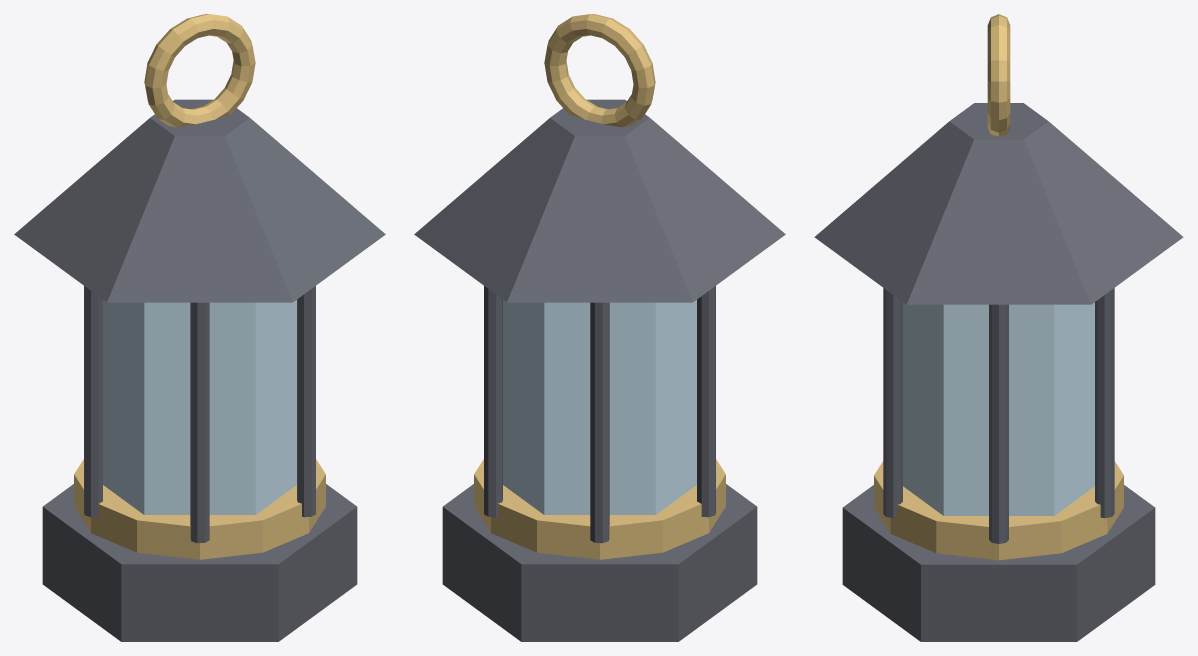
The model's file is iron-lantern_original_web-mobile.glb.
3 views of the same model, side by side, from view 1: azimuth 30°, elevation 25°; view 2: azimuth 150°, elevation 25°; view 3: azimuth 270°, elevation 25° (orthographic).
Visible parts, largest first — view 1: SM_Lantern_RoofCap, SM_Lantern_Glass, SM_Lantern_Base, SM_Lantern_Collar, SM_Lantern_HangRing, SM_Lantern_Strut_5, SM_Lantern_Strut_4, SM_Lantern_Strut_6; view 2: SM_Lantern_RoofCap, SM_Lantern_Glass, SM_Lantern_Base, SM_Lantern_Collar, SM_Lantern_HangRing, SM_Lantern_Strut_3, SM_Lantern_Strut_4, SM_Lantern_Strut_2; view 3: SM_Lantern_RoofCap, SM_Lantern_Glass, SM_Lantern_Base, SM_Lantern_Collar, SM_Lantern_Strut_1, SM_Lantern_Strut_2, SM_Lantern_Strut_6, SM_Lantern_HangRing.
Part boxes in pixels (box(x1,y1,x2,y2)): SM_Lantern_RoofCap: box(14, 99, 385, 302); SM_Lantern_Glass: box(103, 300, 296, 514); SM_Lantern_Base: box(42, 484, 357, 641); SM_Lantern_Collar: box(74, 459, 325, 559); SM_Lantern_HangRing: box(144, 14, 255, 127); SM_Lantern_Strut_5: box(190, 302, 209, 543); SM_Lantern_Strut_4: box(84, 286, 102, 517); SM_Lantern_Strut_6: box(297, 286, 315, 517); SM_Lantern_RoofCap: box(414, 99, 785, 302); SM_Lantern_Glass: box(503, 300, 696, 514); SM_Lantern_Base: box(442, 484, 757, 641); SM_Lantern_Collar: box(474, 459, 725, 559); SM_Lantern_HangRing: box(544, 14, 655, 127); SM_Lantern_Strut_3: box(590, 302, 609, 543); SM_Lantern_Strut_4: box(697, 286, 715, 517); SM_Lantern_Strut_2: box(484, 286, 502, 517); SM_Lantern_RoofCap: box(814, 103, 1183, 304); SM_Lantern_Glass: box(903, 302, 1094, 515); SM_Lantern_Base: box(842, 485, 1155, 641); SM_Lantern_Collar: box(874, 461, 1123, 560); SM_Lantern_Strut_1: box(989, 304, 1008, 543); SM_Lantern_Strut_2: box(1095, 288, 1114, 518); SM_Lantern_Strut_6: box(883, 288, 902, 518); SM_Lantern_HangRing: box(987, 14, 1010, 136).
Size of the model in its own units: 0.2252 by 0.4383 by 0.26.
